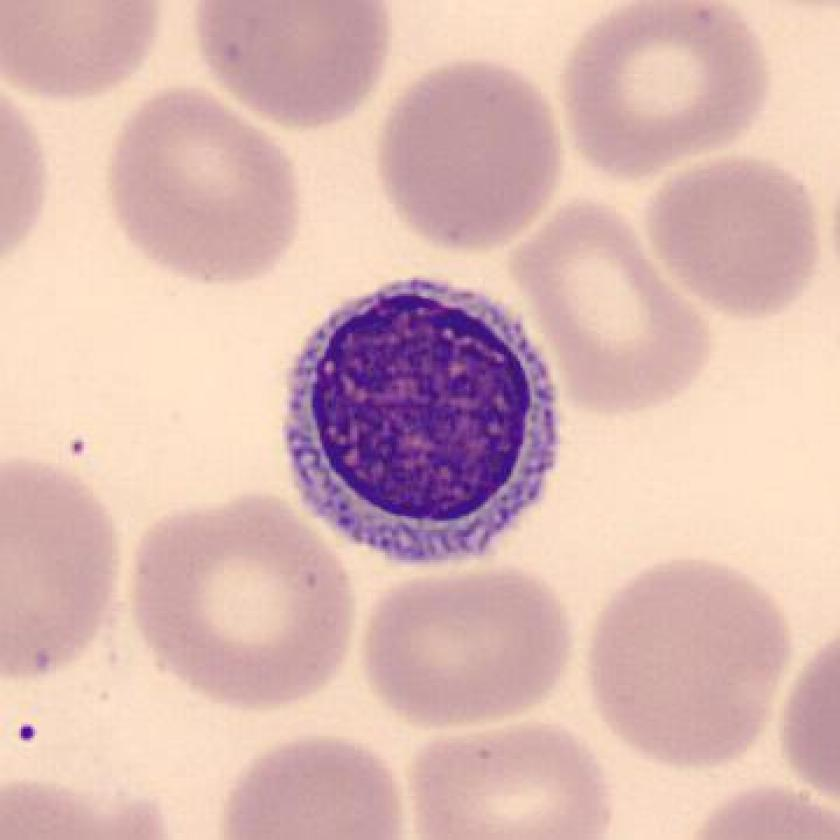lymphocyte: (267, 258, 577, 570)
